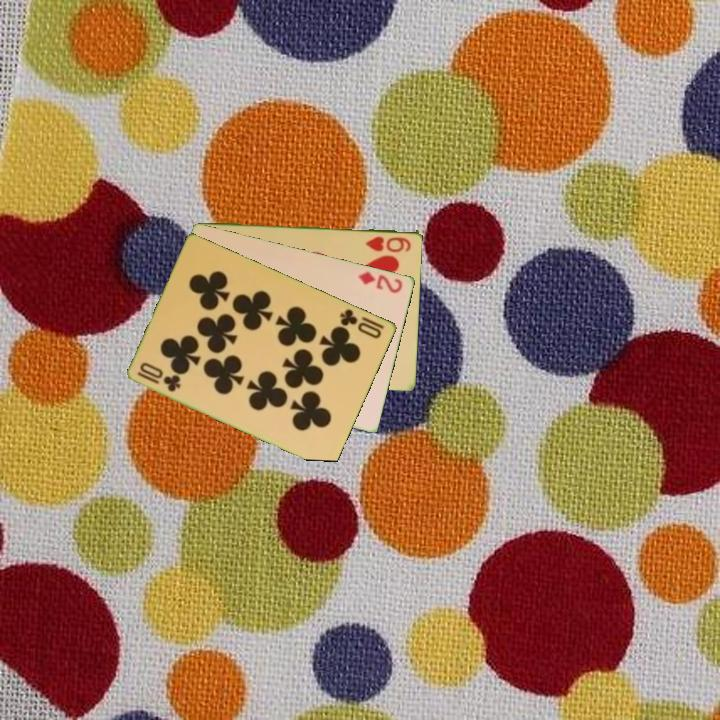10c: (134, 359, 184, 395), (336, 305, 385, 341)
2d: (355, 268, 406, 296)
6h: (362, 232, 414, 255)
